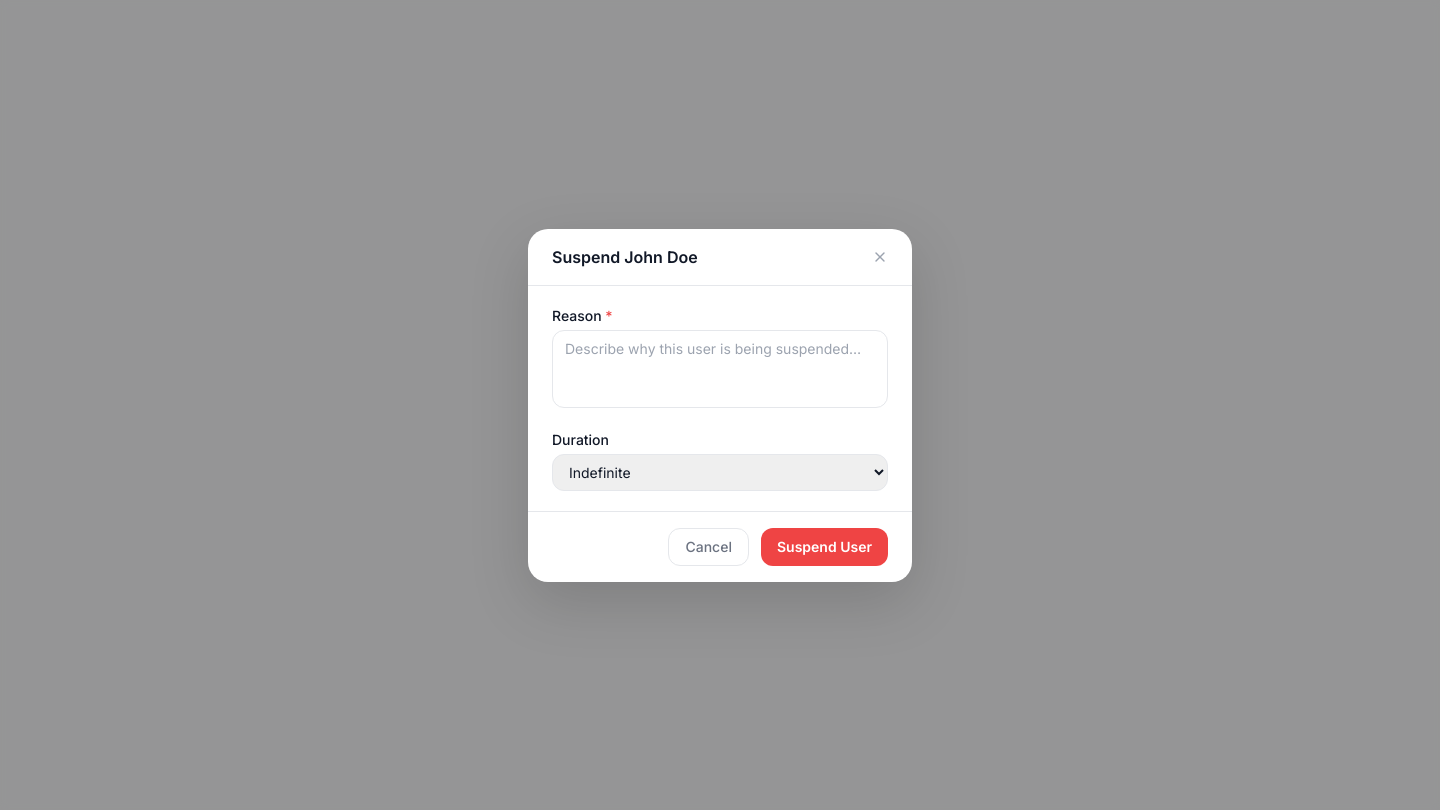
SuspendModal › shows validation error when reason is too short
Type "Short" into the text box with test id "suspend-reason" at (720, 368), box [552,330,888,408]
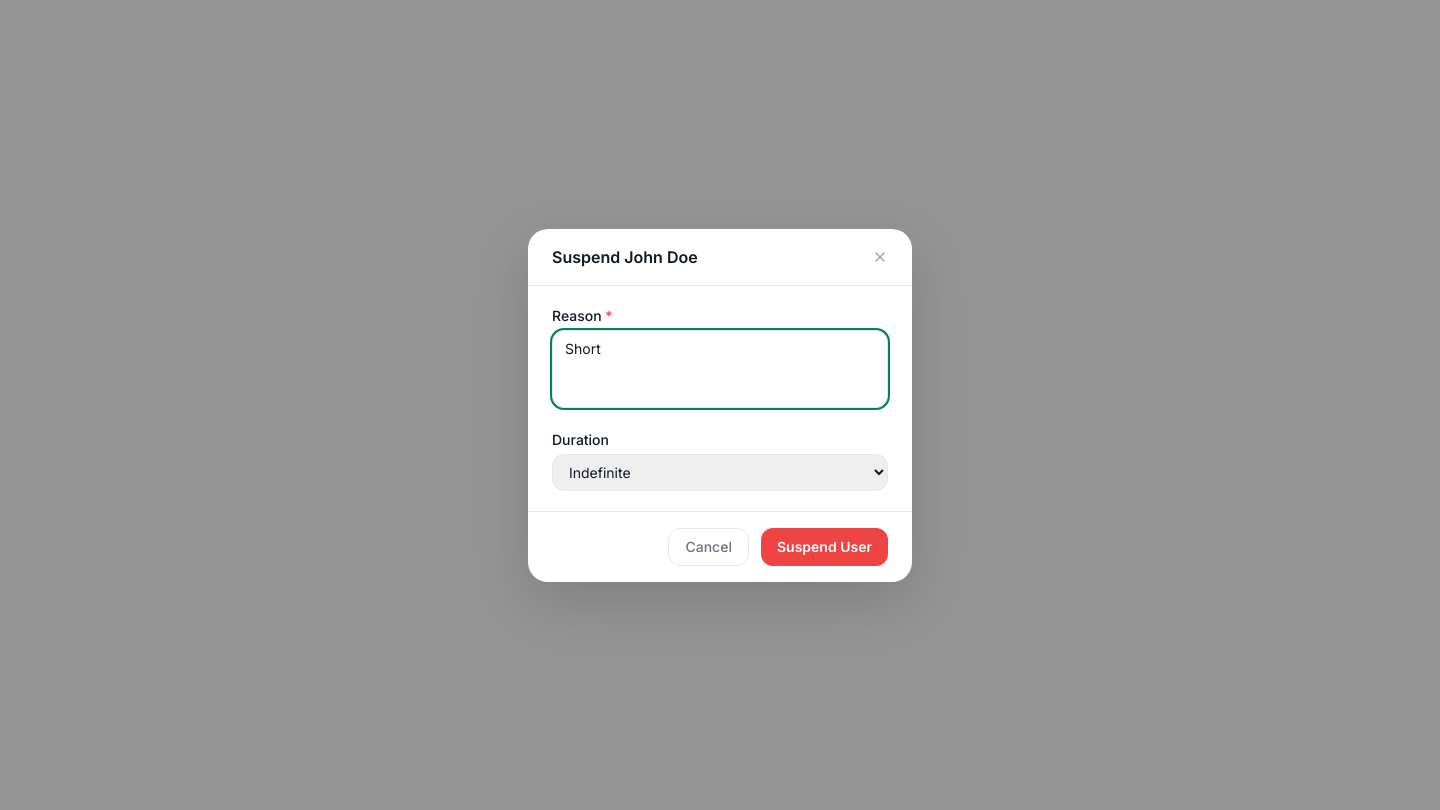
Click the button with test id "suspend-confirm-btn" at (824, 546), box [761,528,888,566]
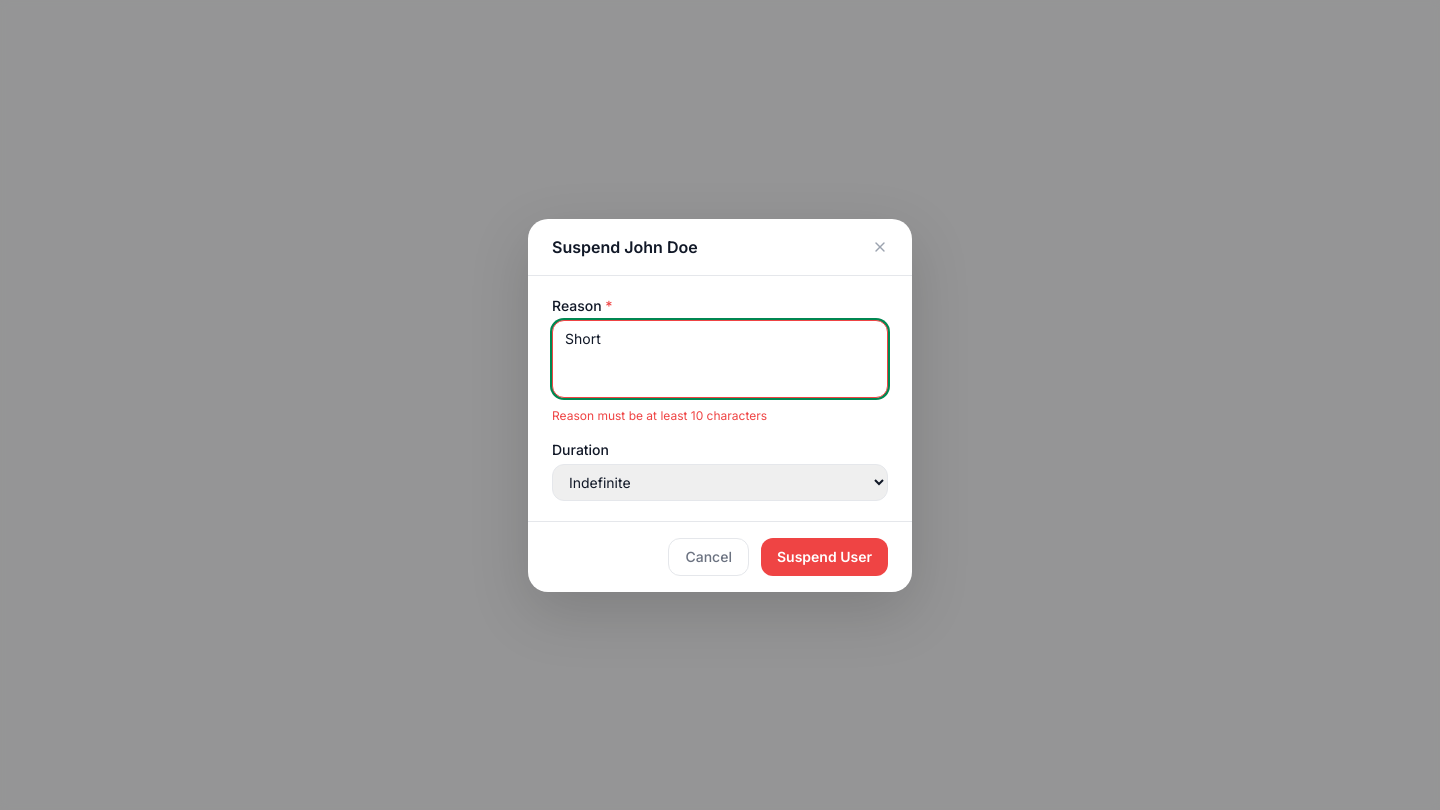
Now the text "Reason must be at least 10 characters" is shown, box [552,408,767,422]
